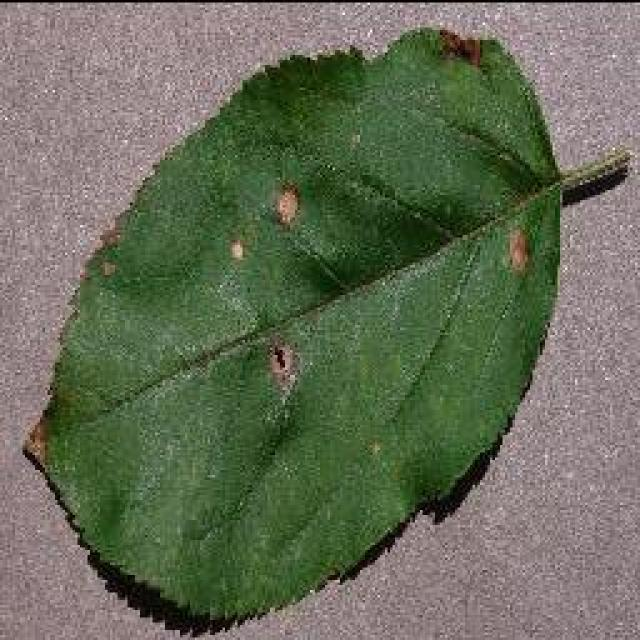apple healthy: (20, 25, 630, 635)
